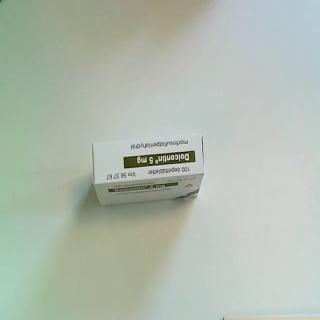dolcontin5mg: (91, 132, 205, 208)
